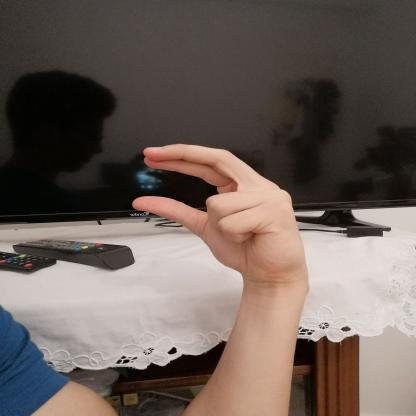DHELL: (125, 138, 316, 289)
